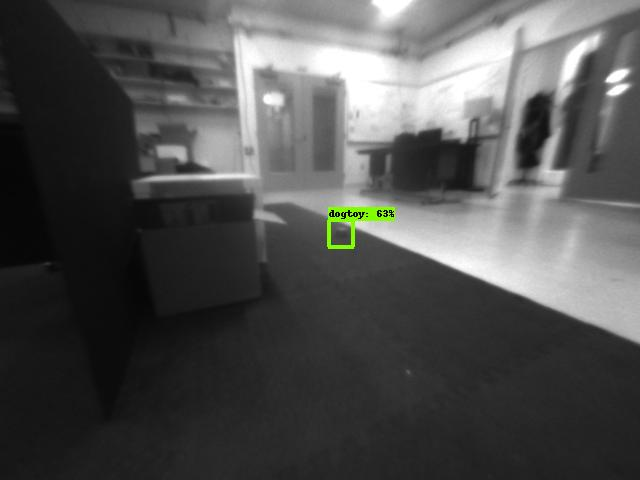dogtoy: (330, 220, 356, 245)
